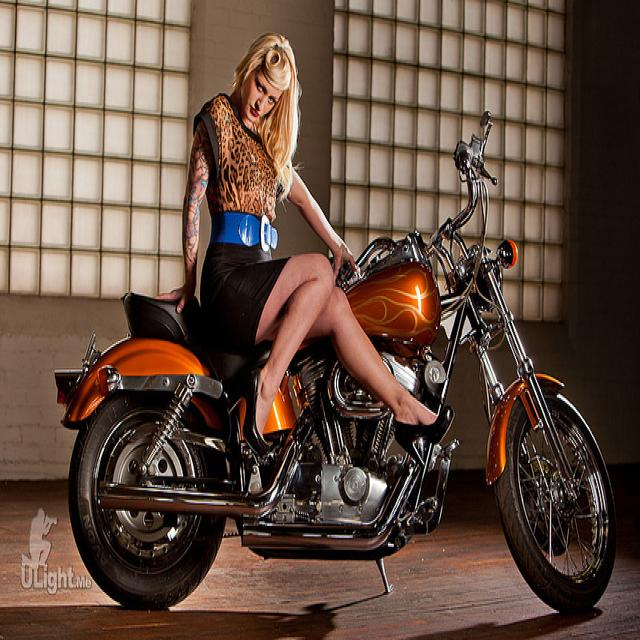motor: (54, 109, 618, 612)
